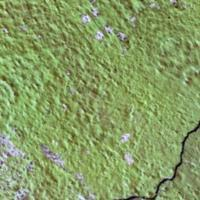crack: (108, 115, 199, 199)
